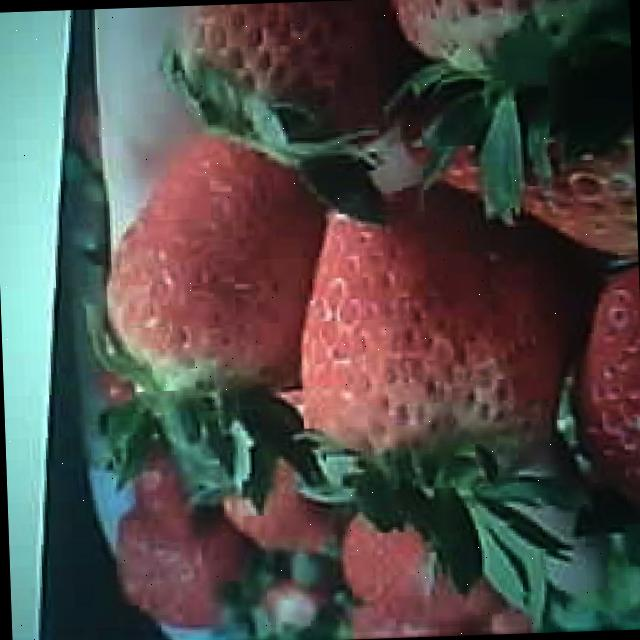strawberry: (294, 186, 502, 452), (103, 144, 325, 390)
